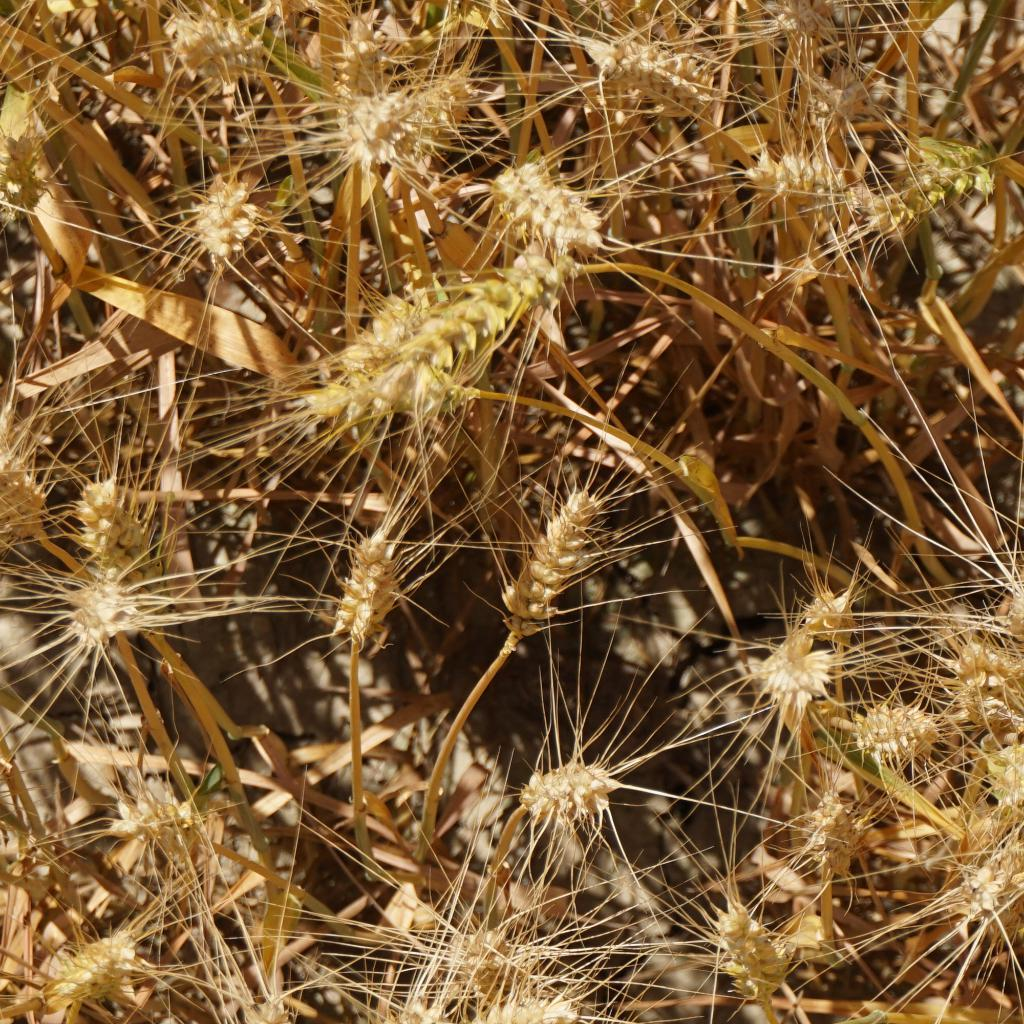0-0: (354, 263, 529, 405), (498, 468, 620, 637), (484, 139, 616, 262), (325, 516, 417, 649), (697, 884, 795, 996), (165, 2, 289, 86), (744, 584, 828, 707), (425, 909, 523, 1012), (594, 41, 728, 116), (404, 73, 481, 203), (120, 760, 206, 876), (11, 921, 125, 1008), (516, 738, 624, 826), (775, 758, 862, 866), (177, 171, 269, 269), (744, 58, 830, 155), (896, 134, 996, 216), (742, 149, 850, 222), (62, 464, 139, 561), (0, 117, 73, 219), (325, 70, 409, 155), (47, 567, 137, 646), (837, 695, 939, 763), (453, 968, 574, 1024), (325, 23, 407, 88), (0, 419, 45, 521), (949, 844, 1016, 907), (980, 718, 1024, 813), (775, 0, 840, 45), (1000, 581, 1024, 687), (242, 1004, 334, 1024), (356, 1004, 433, 1024)
